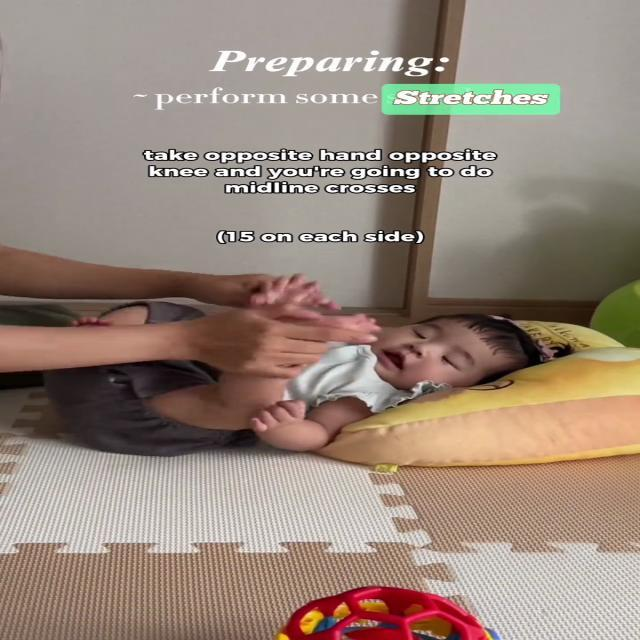baby: (39, 271, 580, 465)
